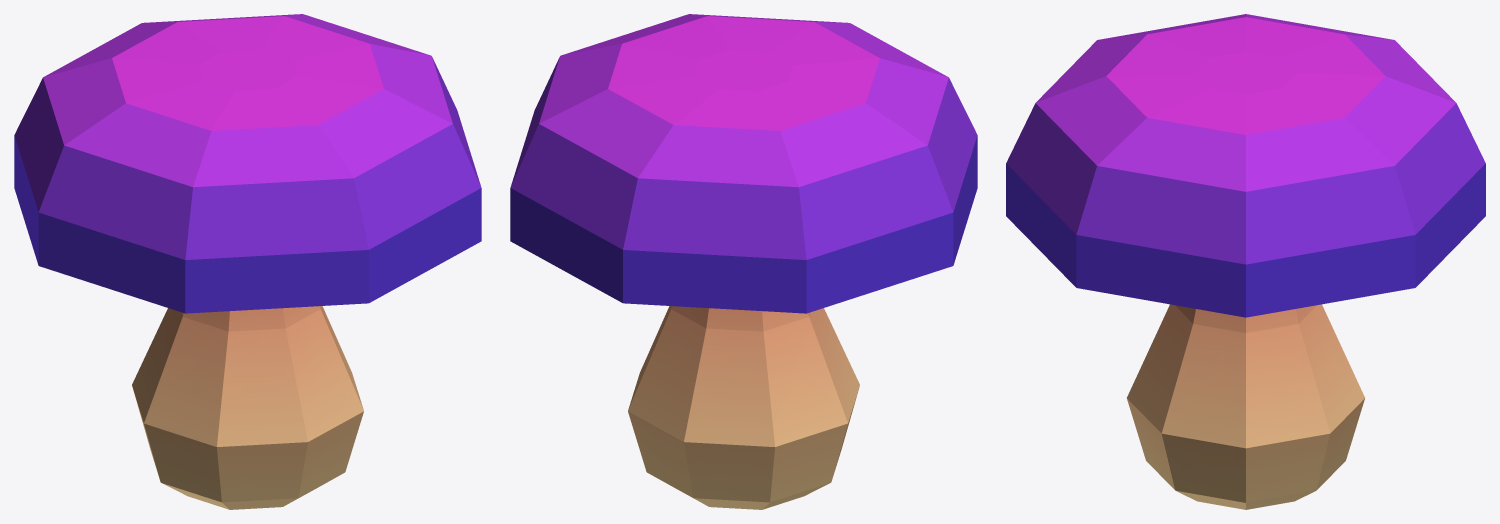
Rendered from Cavern_Mushroom_Big02.fbx.
The picture shows the model from 3 angles, left to right: view 1: azimuth 30°, elevation 25°; view 2: azimuth 150°, elevation 25°; view 3: azimuth 270°, elevation 25°; orthographic projection.
Parts seen in each view (by area): view 1: Cylinder.204; view 2: Cylinder.204; view 3: Cylinder.204.
Part boxes in pixels (left/top/right/bottom): Cylinder.204: left=14, top=14, right=481, bottom=509; Cylinder.204: left=510, top=14, right=977, bottom=509; Cylinder.204: left=1006, top=14, right=1485, bottom=509.
Bounding box in the file's own units: 47.89 × 44.9 × 47.89.
